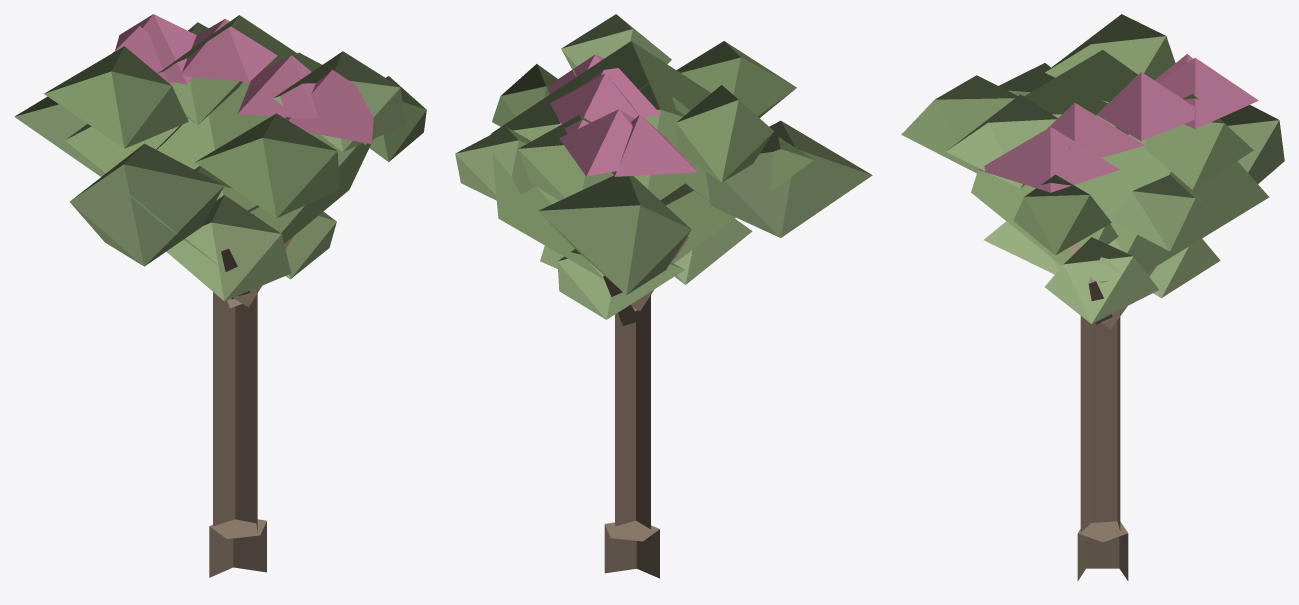
The model's file is tree.sub.paulownia__summer.glb.
The picture shows the model from 3 angles, left to right: view 1: azimuth 30°, elevation 25°; view 2: azimuth 150°, elevation 25°; view 3: azimuth 270°, elevation 25°; orthographic projection. The views are drawn at different scales.
Visible parts, largest first — view 1: tree.sub.paulownia__summer; view 2: tree.sub.paulownia__summer; view 3: tree.sub.paulownia__summer.
Boxes of the visible parts, x1,y1,x2,y2 form: tree.sub.paulownia__summer: (14,14,426,577); tree.sub.paulownia__summer: (455,14,872,578); tree.sub.paulownia__summer: (901,14,1284,581).
Bounding box in the file's own units: 10.93 × 16.56 × 10.89.
